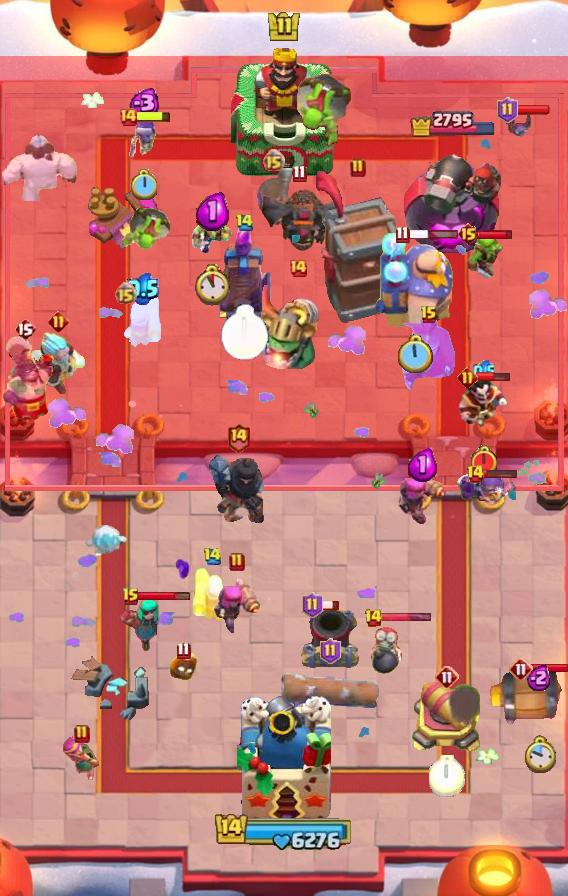archer: (63, 736, 101, 784)
bar: (138, 591, 191, 602), (380, 612, 432, 623), (407, 229, 459, 240), (136, 110, 172, 123), (515, 104, 551, 116), (476, 371, 511, 383), (531, 663, 568, 674), (477, 229, 514, 240), (483, 468, 518, 479), (320, 599, 340, 611)
bar-level: (226, 422, 251, 453), (435, 665, 459, 689), (509, 657, 533, 681), (457, 222, 480, 246), (320, 638, 341, 664), (302, 592, 323, 618), (497, 97, 518, 123), (114, 282, 137, 305), (262, 149, 285, 172), (14, 317, 36, 341), (457, 367, 478, 388), (48, 311, 69, 332), (288, 258, 308, 278), (118, 107, 138, 127), (364, 608, 383, 628), (466, 464, 485, 484), (203, 547, 222, 566), (235, 213, 254, 232), (122, 587, 140, 607), (420, 305, 438, 325), (74, 724, 90, 744), (229, 552, 245, 572), (350, 158, 366, 178), (176, 641, 191, 660), (395, 225, 410, 244), (292, 164, 307, 183)
barbarian-barrel: (488, 667, 568, 727)
bat: (504, 111, 534, 137)
bomber: (368, 618, 404, 676)
cannoneer-tower: (403, 138, 503, 256)
clock: (220, 304, 269, 361), (192, 264, 232, 306), (396, 334, 433, 376), (429, 755, 465, 797), (523, 735, 556, 775), (469, 445, 499, 478), (130, 169, 157, 200)
electro-wizard: (458, 376, 510, 430)
elixir: (196, 192, 229, 231), (126, 272, 159, 305), (125, 88, 161, 118), (408, 448, 437, 482), (527, 664, 552, 691), (473, 360, 495, 382)
executioner: (0, 334, 56, 422)
fire-spirit: (168, 653, 198, 681)
firecracker: (213, 576, 261, 638), (397, 473, 447, 527), (191, 565, 233, 623), (121, 291, 163, 349)
goblin: (459, 232, 507, 278), (191, 220, 233, 256)
goblin-ball: (294, 69, 354, 145), (119, 205, 173, 253)
ice-spirit: (83, 523, 129, 557)
ice-wizard: (29, 331, 87, 397)
king-tower: (231, 43, 337, 181), (237, 696, 331, 826)
king-tower-bar: (214, 811, 354, 851)
knight-evolution: (456, 470, 518, 504)
mortar: (299, 604, 361, 672)
musketeer: (254, 168, 292, 228)
rascal-girl: (117, 597, 169, 655)
skeleton-evolution: (127, 117, 159, 159)
the-log: (279, 668, 381, 712)
tower-bar: (409, 109, 497, 137)
